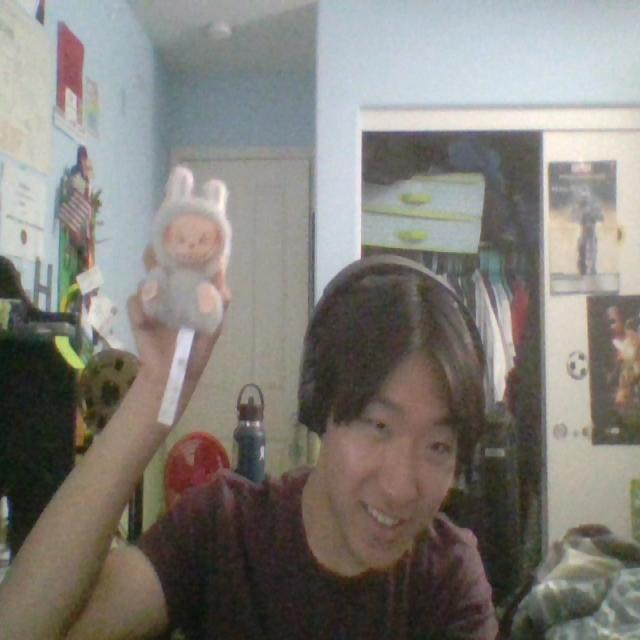labubu: (144, 164, 231, 329)
